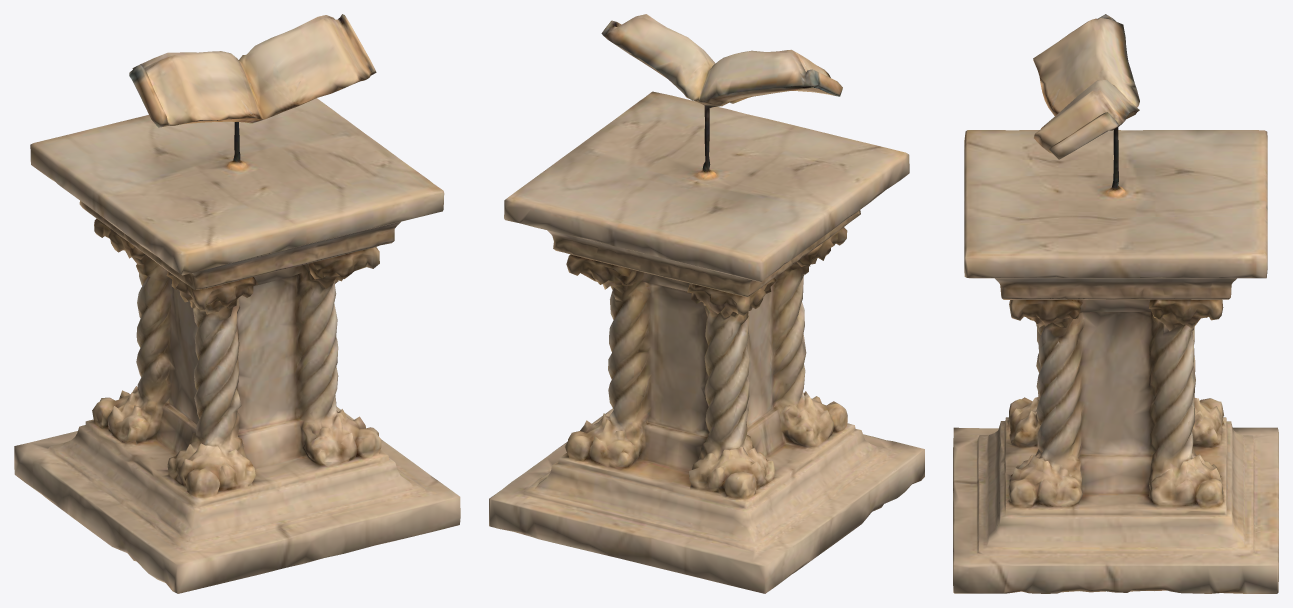
Rendered from lectern.glb.
The picture shows the model from 3 angles, left to right: view 1: azimuth 30°, elevation 25°; view 2: azimuth 150°, elevation 25°; view 3: azimuth 270°, elevation 25°; orthographic projection. The views are drawn at different scales.
Parts seen in each view (by area): view 1: Object_4; view 2: Object_4; view 3: Object_4.
Part boxes in pixels (x1,y1,x2,y2): Object_4: (14,14,460,593); Object_4: (489,14,924,593); Object_4: (953,14,1278,593).
Bounding box in the file's own units: 1.2 × 1.91 × 1.2.
Materials: 1 (1 with a texture image).
